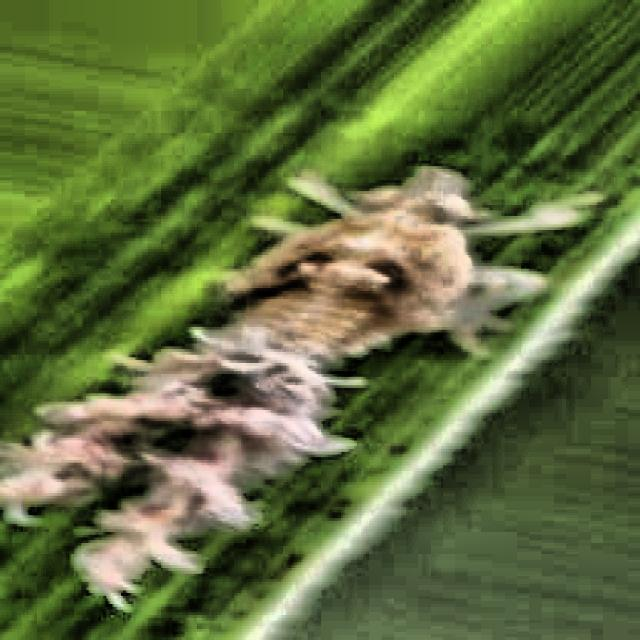Pyrilla-perpusilla: (0, 144, 598, 604)
